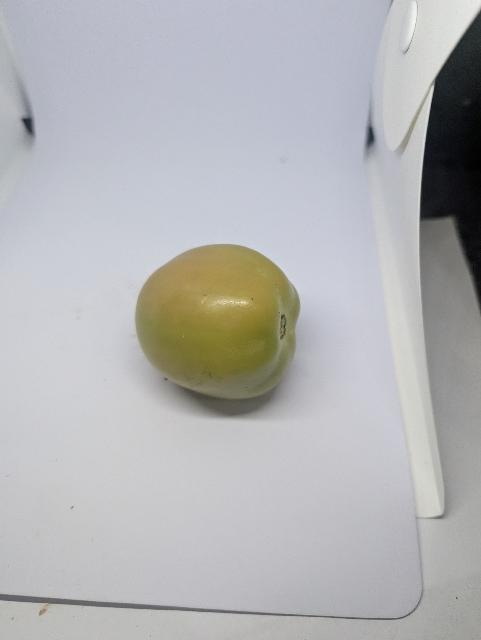breaker: (136, 244, 301, 399)
